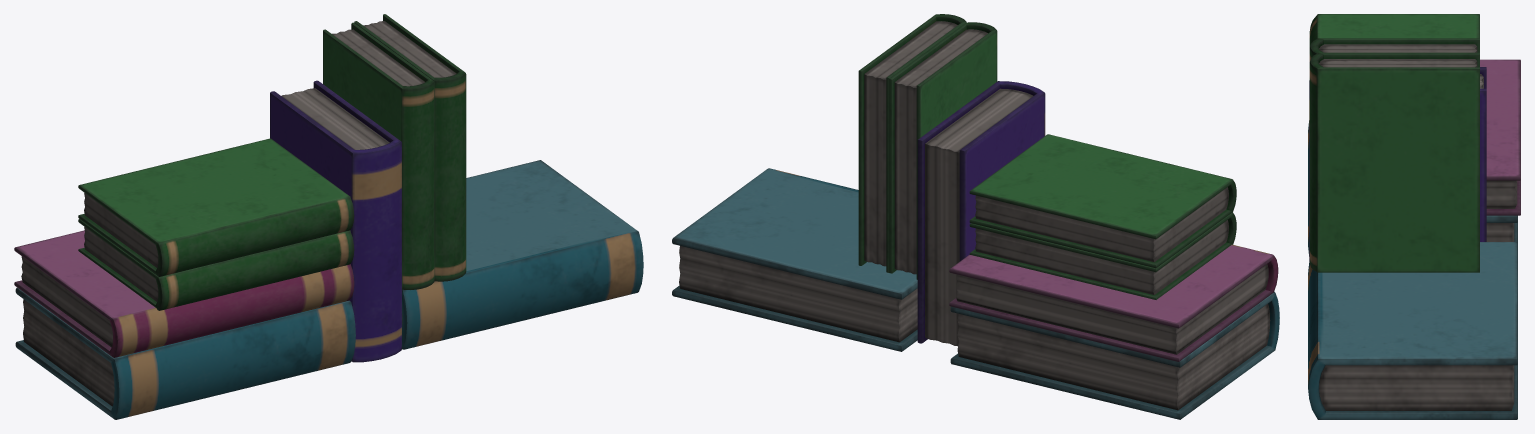
File: Books_V5.fbx
3 renders of one model, left to right at view 1: azimuth 30°, elevation 25°; view 2: azimuth 150°, elevation 25°; view 3: azimuth 270°, elevation 25°, orthographic. The views are drawn at different scales.
Visible parts, largest first — view 1: Books_v5; view 2: Books_v5; view 3: Books_v5.
Part boxes in pixels (x1,y1,x2,y2): Books_v5: (14,14,643,419); Books_v5: (672,14,1279,419); Books_v5: (1308,14,1520,419).
Size of the model in its own units: 157 by 75.16 by 54.32.
Materials: 1 (1 with a texture image).
